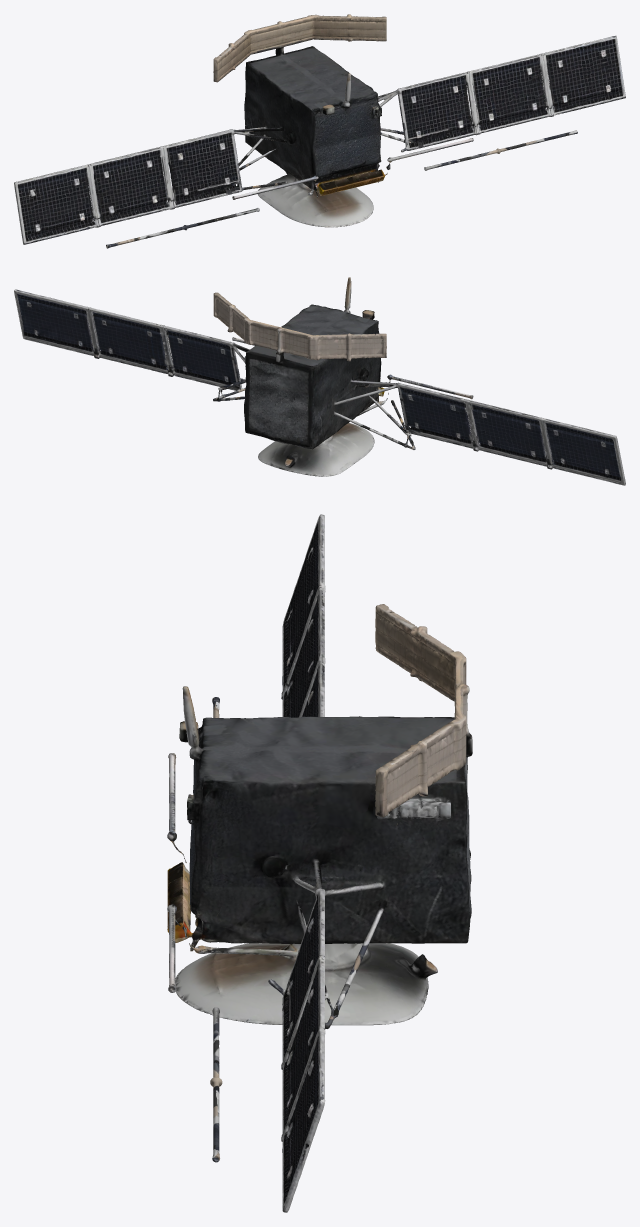
Rendered from envision.glb.
3 renders of one model, top to bottom at view 1: azimuth 30°, elevation 25°; view 2: azimuth 150°, elevation 25°; view 3: azimuth 270°, elevation 25°, orthographic. The views are drawn at different scales.
Size of the model in its own units: 1.9 by 0.4548 by 0.4176.
1 material, 1 textured.
